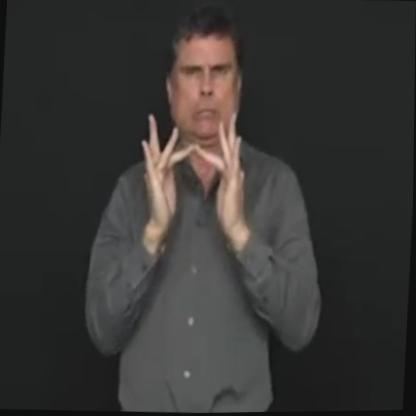Internet: (130, 108, 262, 237)
